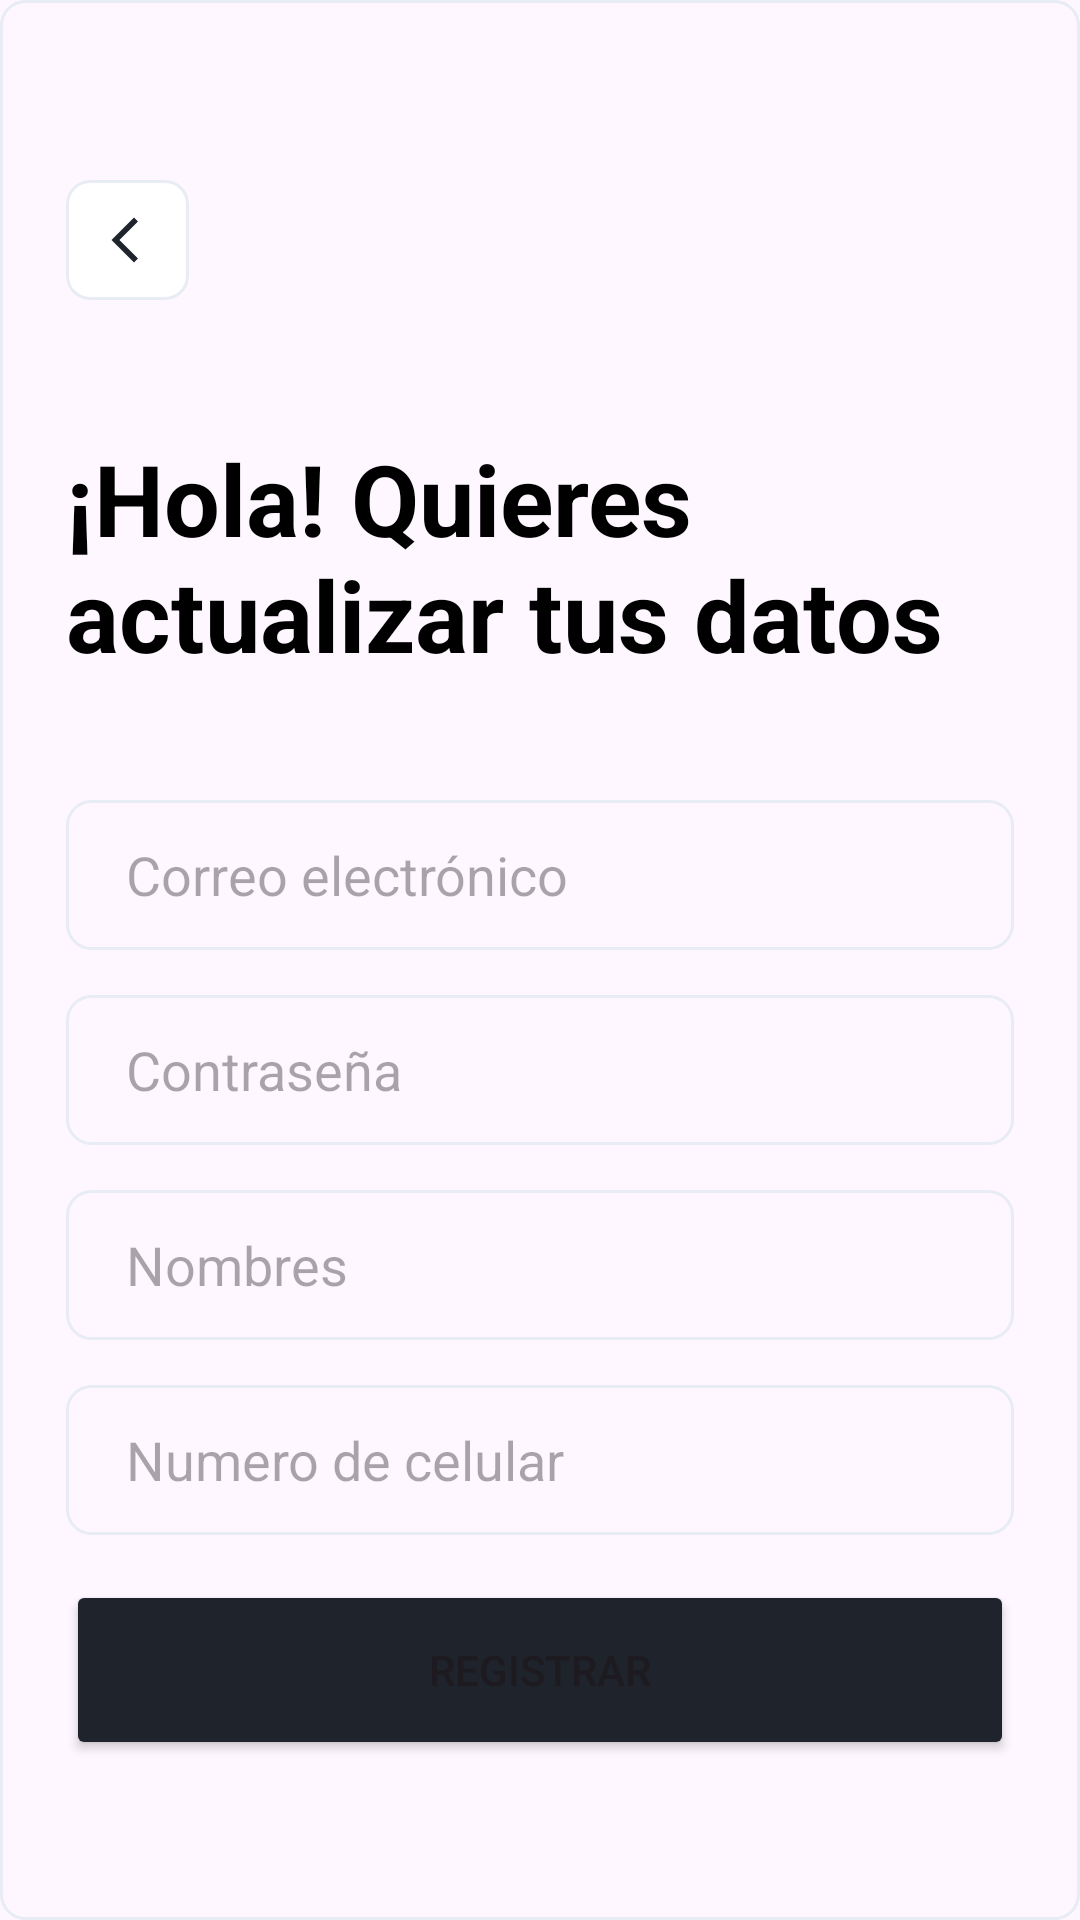

Icon click points for this 1080x1920 phone screenshot, format point (x, y):
arrow back: point (127, 240)
